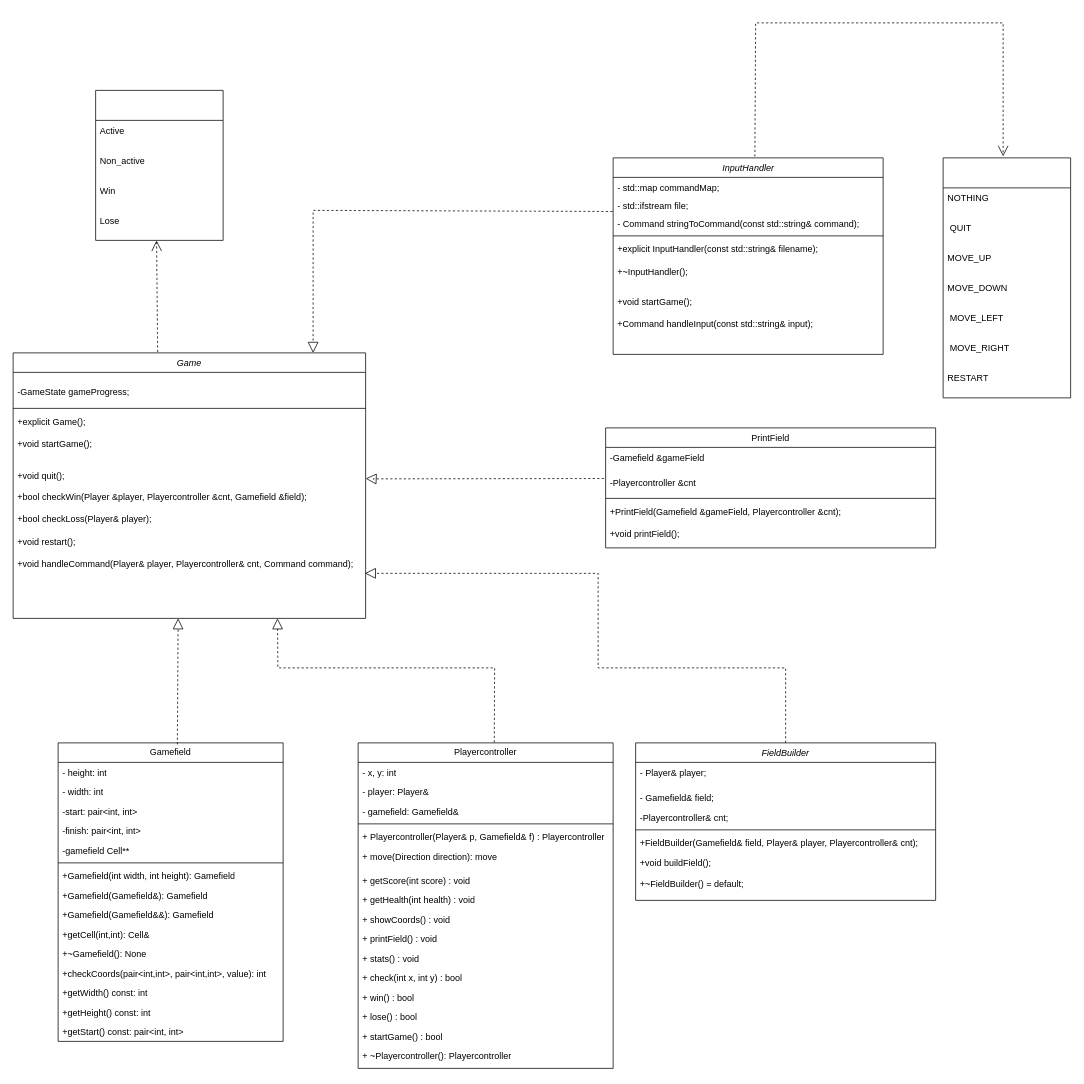
Image size: 1084x1084. Some labels were removed from this diagram. Each missing label, with the box of its shape:
"enum" Command: (942, 157, 1071, 398)
"enum" GameState: (95, 90, 223, 240)
